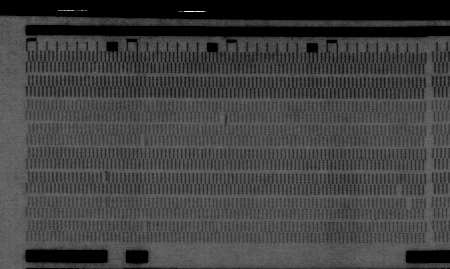Broken hole: (403, 197, 415, 211), (394, 185, 406, 198), (217, 110, 228, 124)
Oblique printing: (99, 170, 113, 187), (140, 221, 153, 234), (138, 135, 150, 148)
